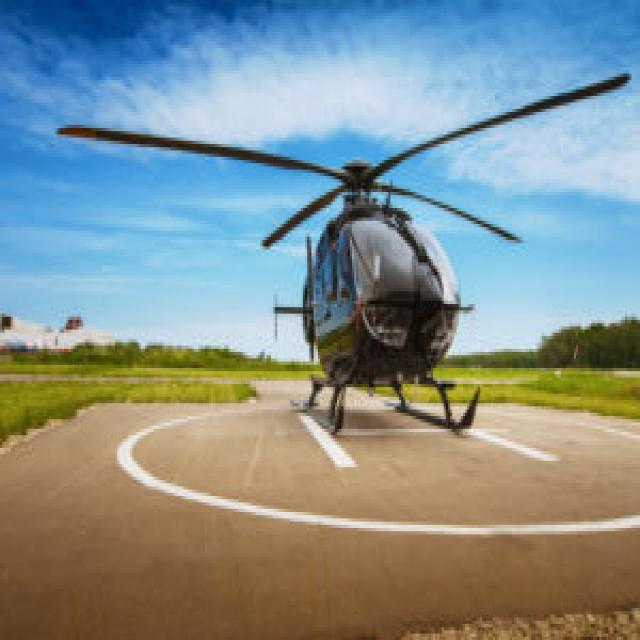helicopter: (59, 75, 630, 440)
